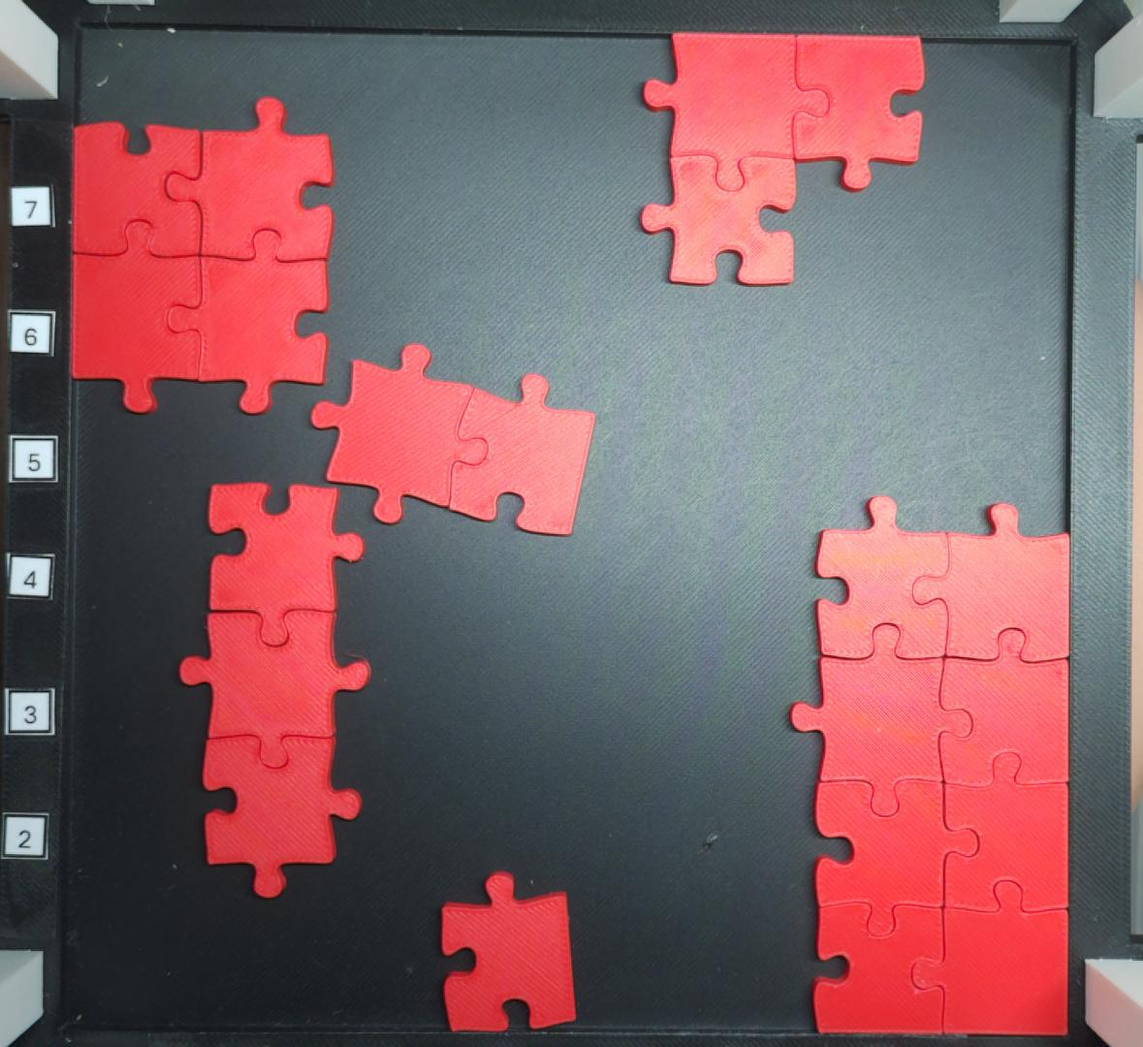p_1: (439, 870, 578, 1037)
p_2: (311, 343, 597, 537)
p_3: (181, 480, 369, 901), (639, 31, 930, 291)
p_4: (70, 94, 338, 421)
p_m: (786, 495, 1073, 1032)
